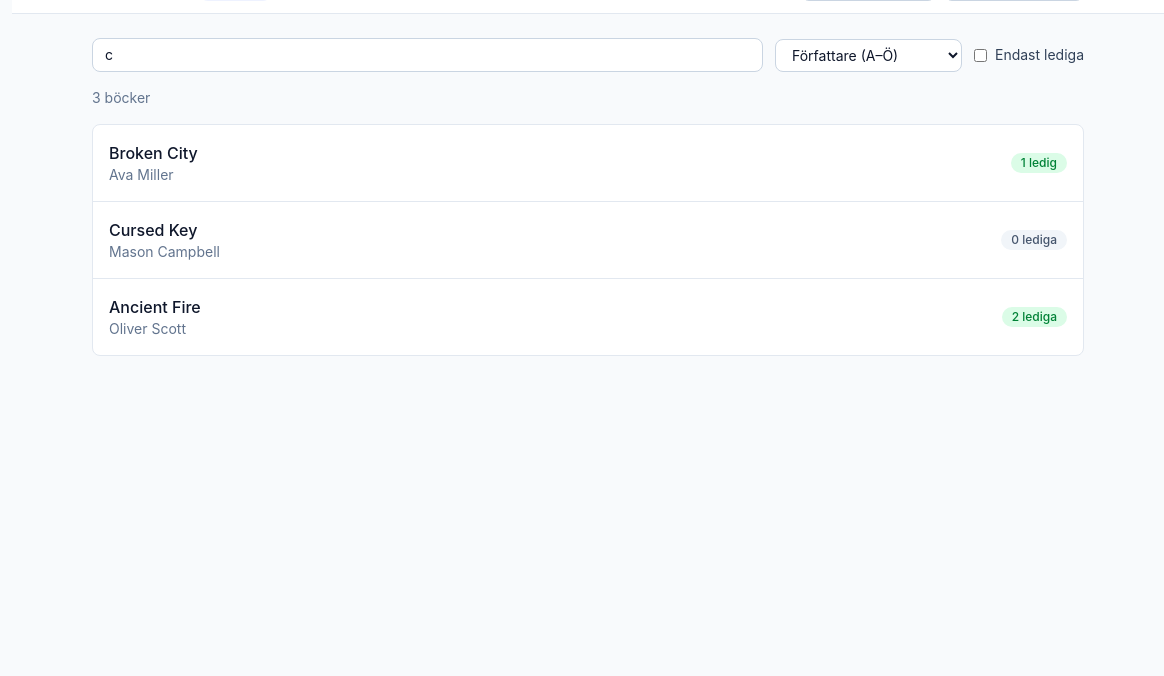
Test: BooksPage › kombinerar sökning, filter och sortering, och behåller dem i URL:en
Check: the text "3 böcker" is shown, box [92, 89, 150, 106]
Click the checkbox labelled "Endast lediga": (980, 55) [974, 48, 987, 62]
(page scrolled)
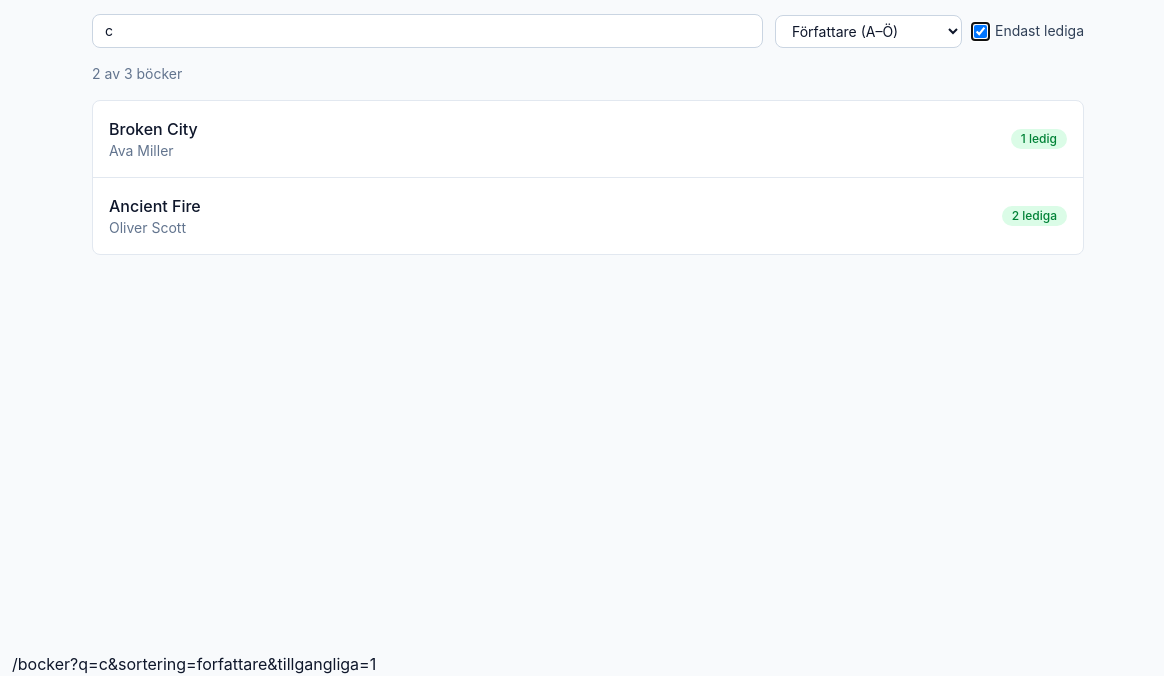
Check: the text "2 av 3 böcker" is shown, box [92, 65, 182, 82]
Check: the text with test id "location" reads "/bocker?q=c&sortering=forfattare&tillgangliga=1", box [12, 654, 376, 674]
